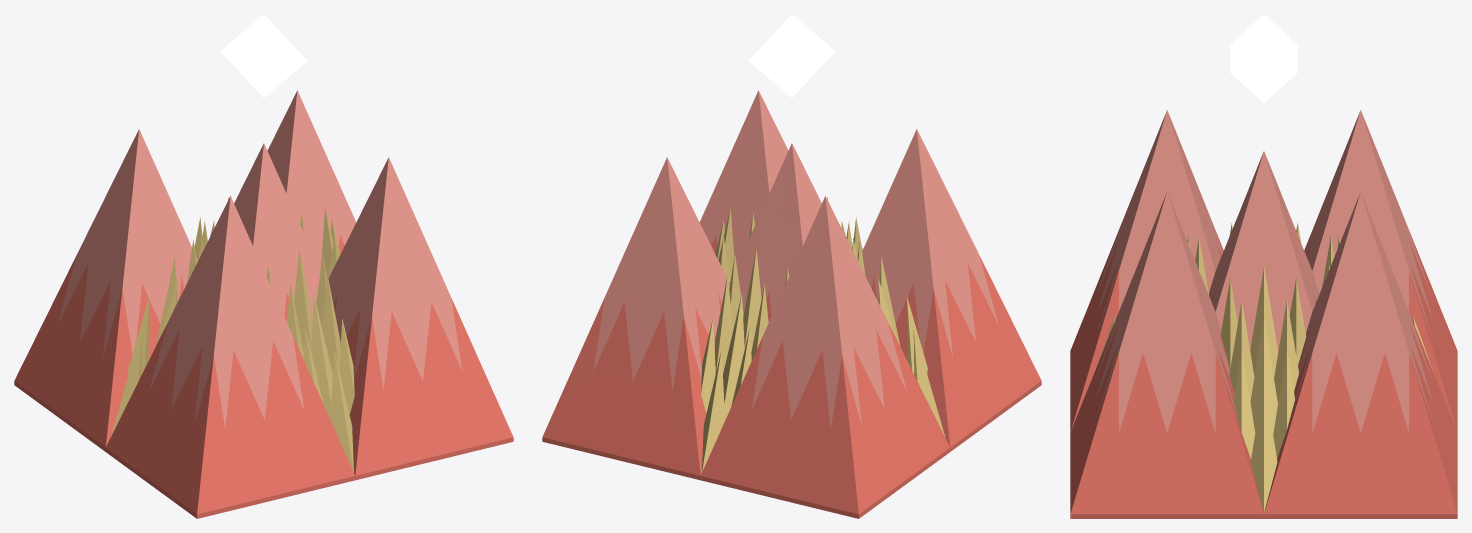
3 views of the same model, side by side, from view 1: azimuth 30°, elevation 25°; view 2: azimuth 150°, elevation 25°; view 3: azimuth 270°, elevation 25° (orthographic). The views are drawn at different scales.
Parts seen in each view (by area): view 1: Cone_Trees_Bake; view 2: Cone_Trees_Bake; view 3: Cone_Trees_Bake.
Part boxes in pixels (box(x1,y1,x2,y2)): Cone_Trees_Bake: box(14, 14, 513, 518); Cone_Trees_Bake: box(542, 14, 1041, 518); Cone_Trees_Bake: box(1070, 14, 1457, 518).
Size of what is drawn, in the model's own units: 5.09 by 6.14 by 5.09.
1 material, 1 textured.
